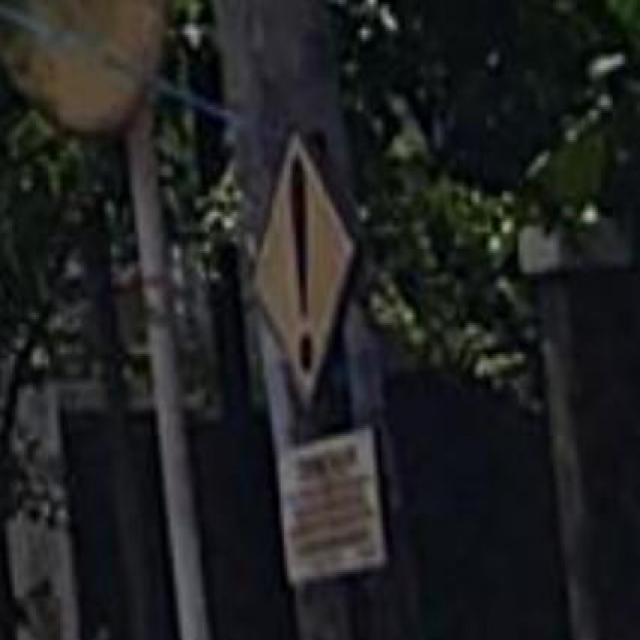traffic sign: (241, 129, 355, 417)
